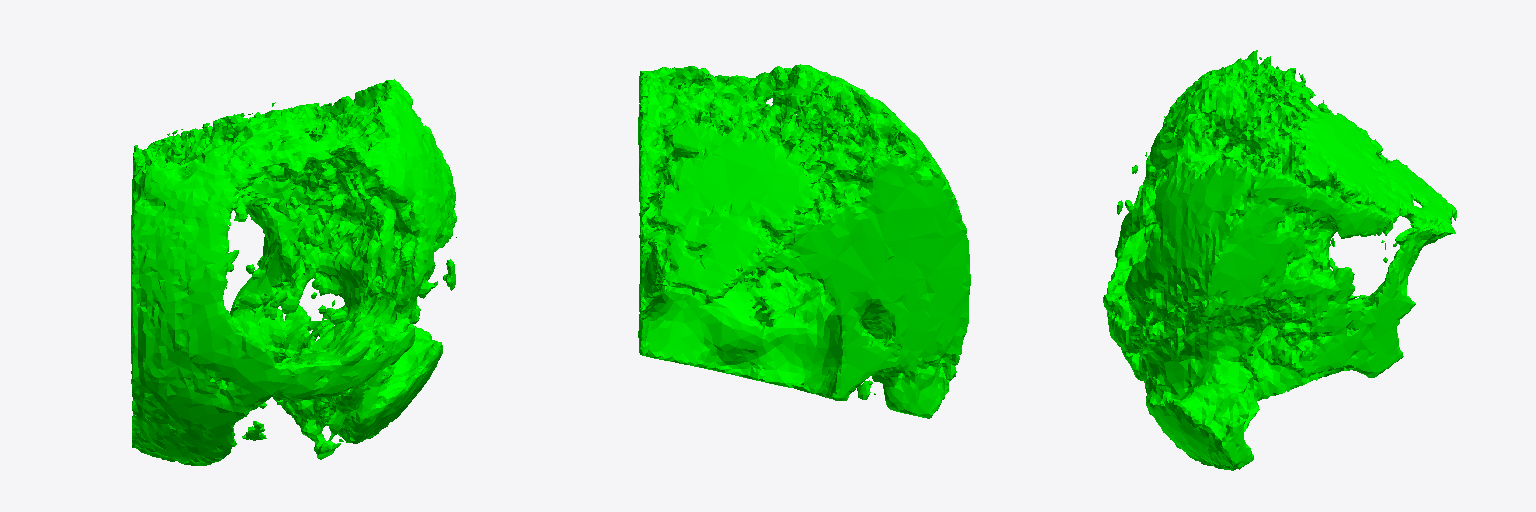
The model's file is B939XXXX-1_base_25.obj.
3 views of the same model, side by side, from view 1: azimuth 30°, elevation 25°; view 2: azimuth 150°, elevation 25°; view 3: azimuth 270°, elevation 25° (orthographic).
Visible parts, largest first — view 1: 25_base; view 2: 25_base; view 3: 25_base.
Boxes of the visible parts, <box> form: 25_base: <box>131,79,456,465</box>; 25_base: <box>638,64,970,418</box>; 25_base: <box>1103,50,1456,470</box>.
Bounding box in the file's own units: 218 × 216 × 204.